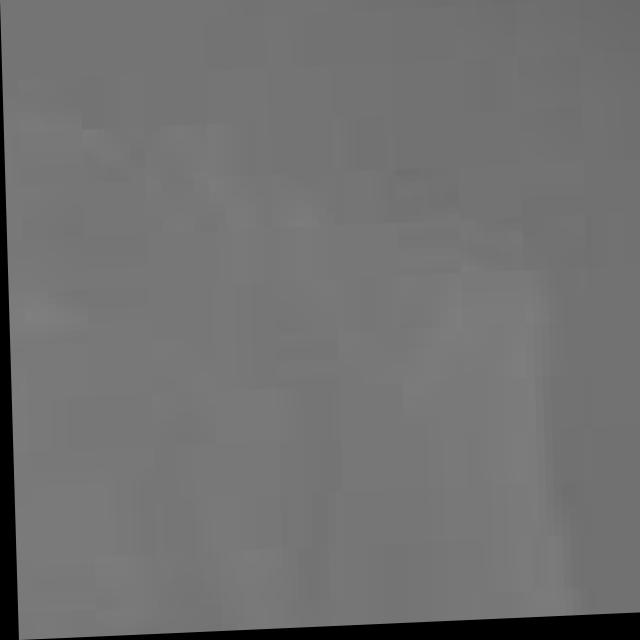fracture: (13, 0, 640, 630)
